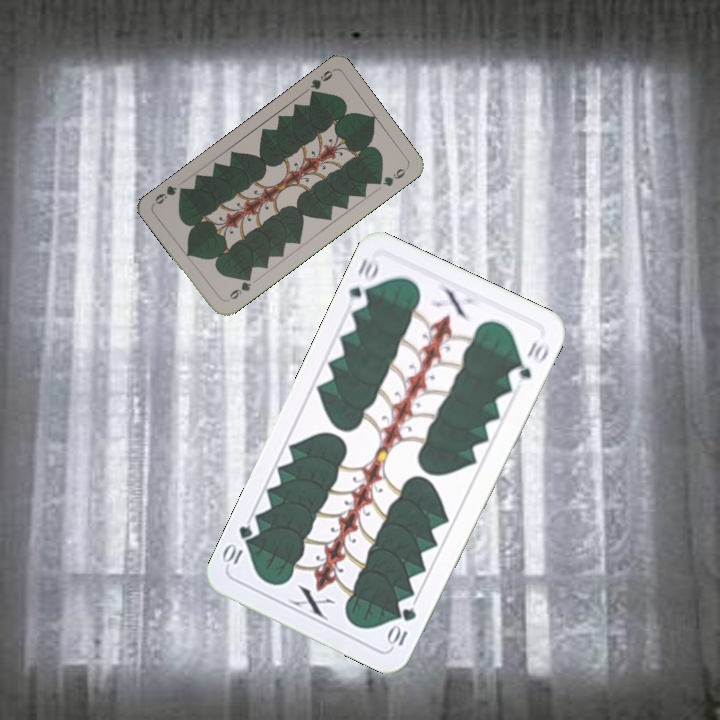G10: (343, 253, 382, 313), (384, 603, 419, 649)
G9: (222, 272, 254, 304), (306, 66, 336, 100)
